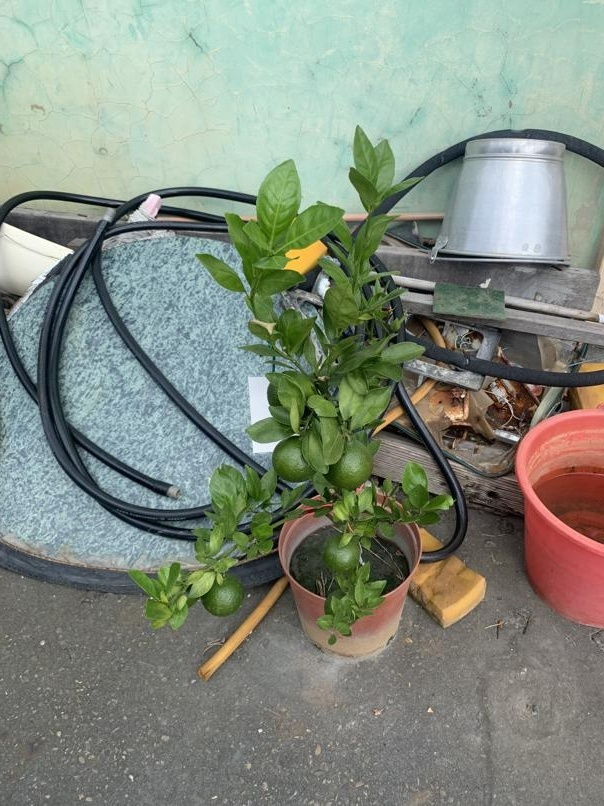Tangerine: (326, 430, 374, 490), (272, 434, 316, 485), (200, 572, 245, 616)
